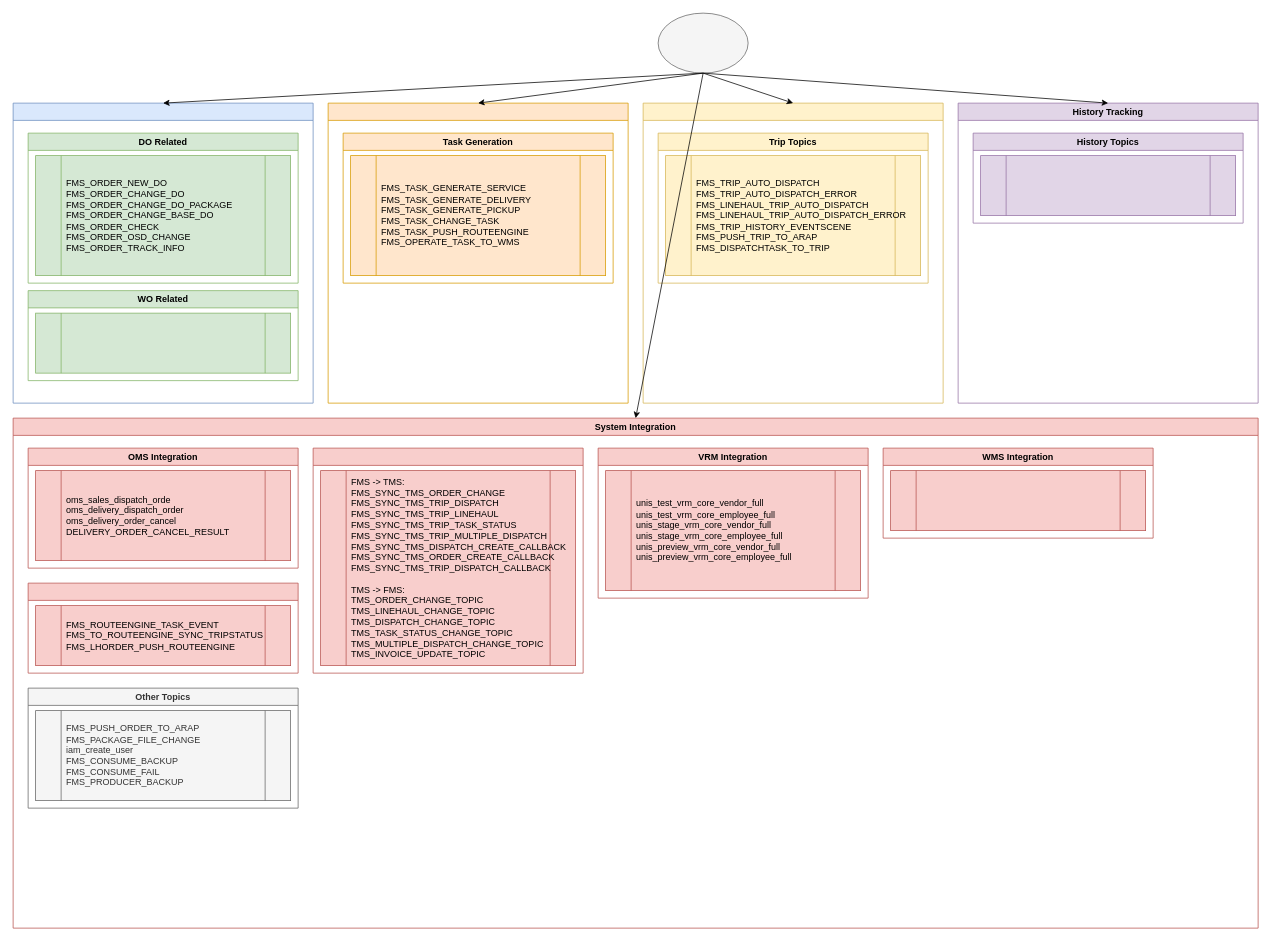
Some shapes in this 1271 by 941 pixel diagram are drawn without their labels. Here are the shapes that lost their labels. From the top down, the box of each, then its label:
(657, 12, 748, 73): FMS Kafka Topics
(980, 155, 1236, 216): FMS_DO_HISTORY_EVENTSCENE2 FMS_WO_HISTORY_EVENTSCENE1
(12, 102, 313, 403): Order Management
(327, 102, 628, 403): Task Management
(642, 102, 943, 403): Trip Management
(35, 312, 291, 373): FMS_ORDER_CREATE_WO_FROM_DO FMS_ORDER_NEW_WO FMS_ORDER_CHANGE_WO
(890, 470, 1146, 531): wms_transload_offload wms_transload_load wms_transload_pallet_update
(312, 447, 583, 673): TMS Integration
(27, 582, 298, 673): RouteEngine Integration
